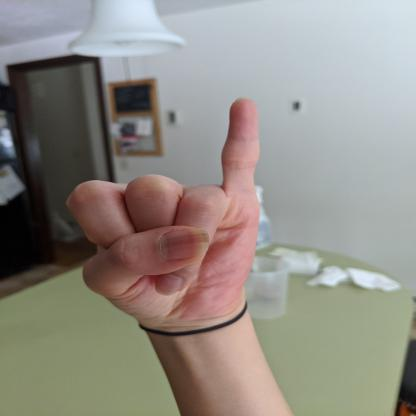I: (59, 94, 270, 337)
